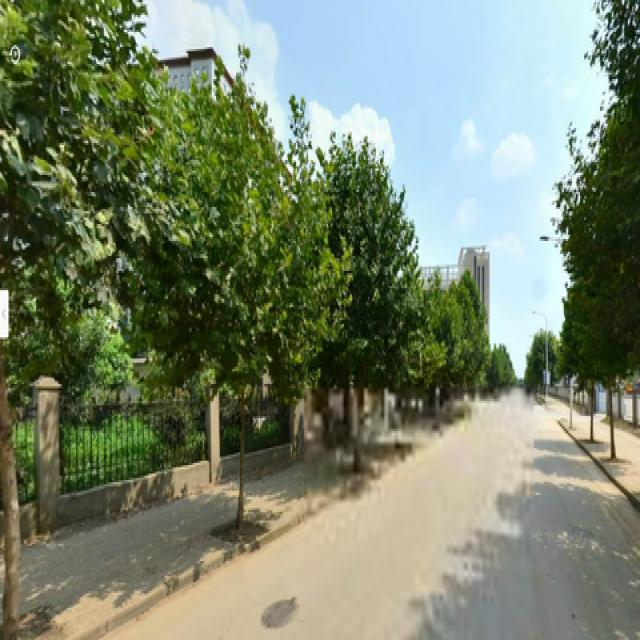meta: (173, 92, 287, 527), (328, 156, 376, 463)
